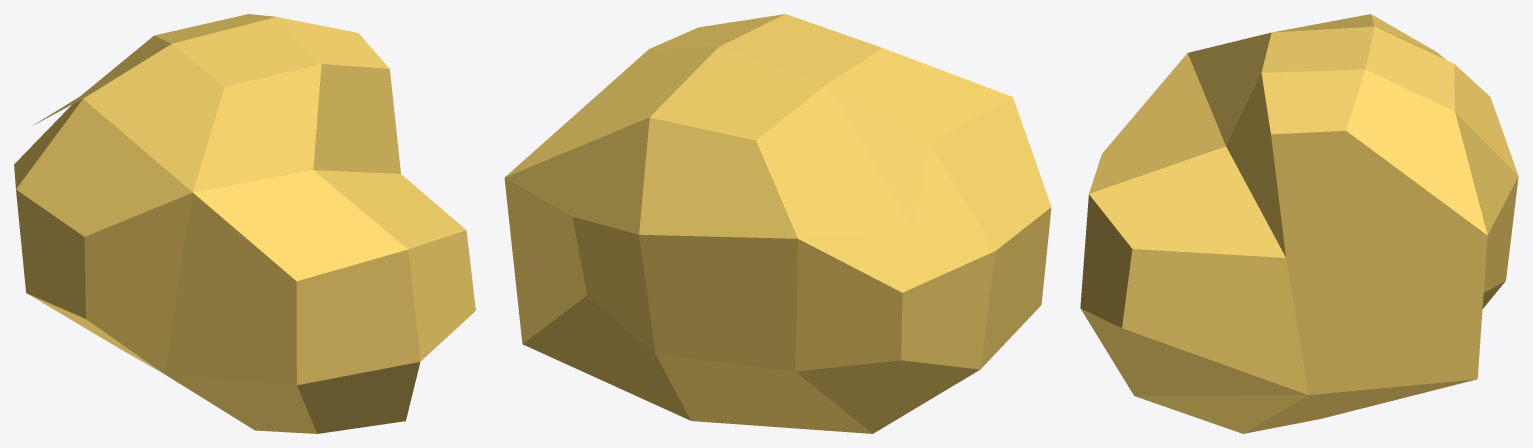
The model's file is Wustensteine5.fbx.
3 views of the same model, side by side, from view 1: azimuth 30°, elevation 25°; view 2: azimuth 150°, elevation 25°; view 3: azimuth 270°, elevation 25° (orthographic). The views are drawn at different scales.
Visible parts, largest first — view 1: Wüstenstein5; view 2: Wüstenstein5; view 3: Wüstenstein5.
Boxes of the visible parts, bbox=[...] form: Wüstenstein5: bbox=[14, 14, 475, 433]; Wüstenstein5: bbox=[504, 14, 1051, 433]; Wüstenstein5: bbox=[1080, 14, 1518, 433].
Bounding box in the file's own units: 22.01 × 19.38 × 21.75.
